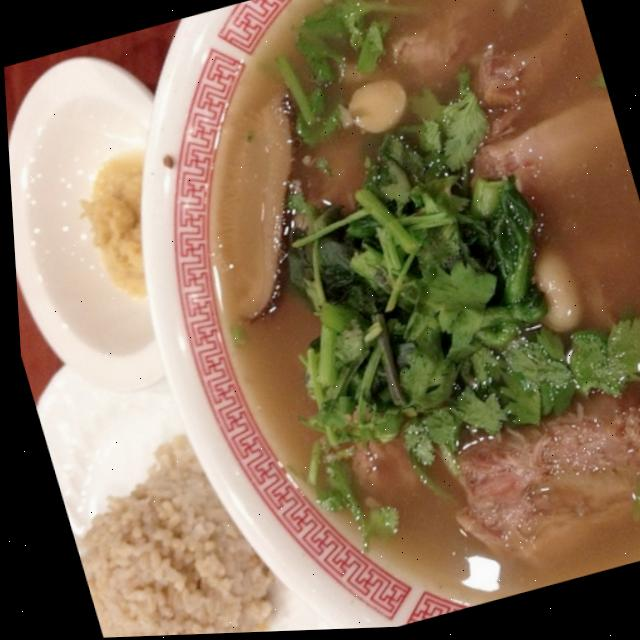汤锅炖物: (87, 0, 640, 637)
